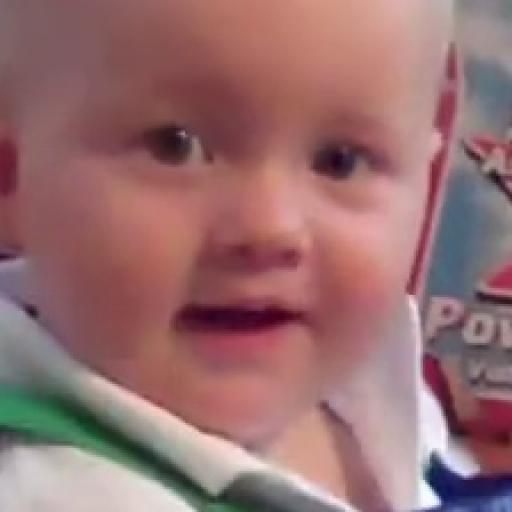Autism: (31, 19, 434, 416)
